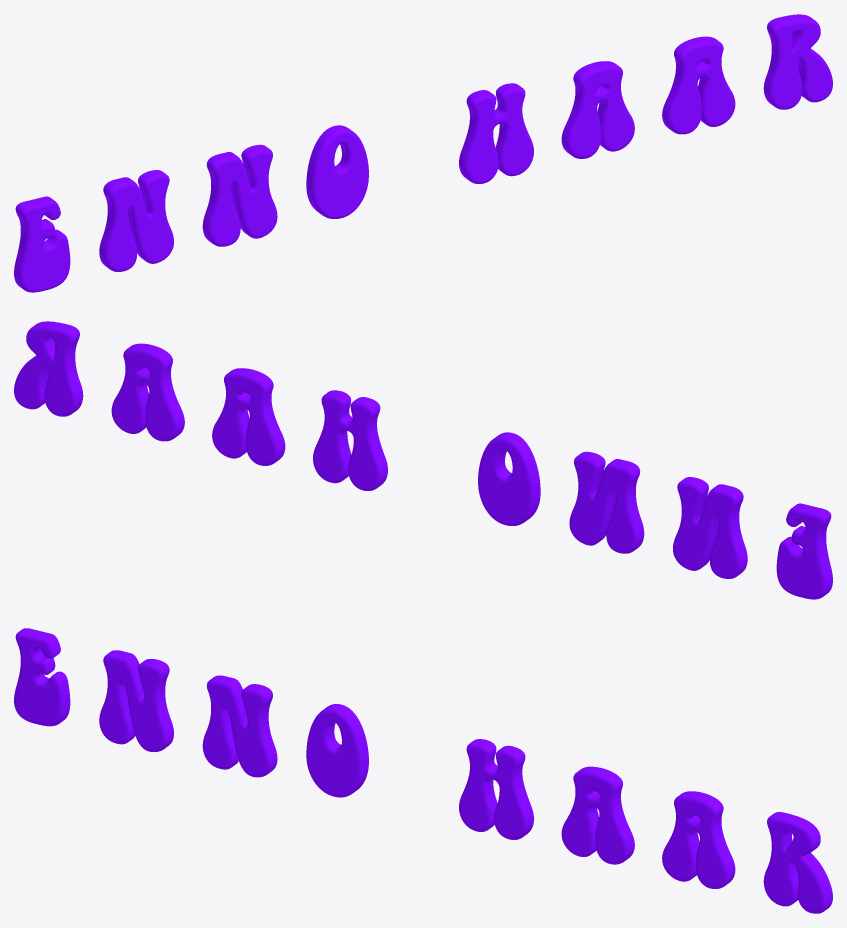
Rendered from enno4.glb.
The picture shows the model from 3 angles, top to bottom: view 1: azimuth 30°, elevation 25°; view 2: azimuth 150°, elevation 25°; view 3: azimuth 330°, elevation 25°; orthographic projection.
Parts seen in each view (by area): view 1: Text; view 2: Text; view 3: Text.
Part boxes in pixels (bbox=[...]): Text: bbox=[14, 14, 832, 292]; Text: bbox=[14, 321, 832, 599]; Text: bbox=[14, 628, 832, 913].
Size of the model in its own units: 6.25 by 0.649 by 0.12.
